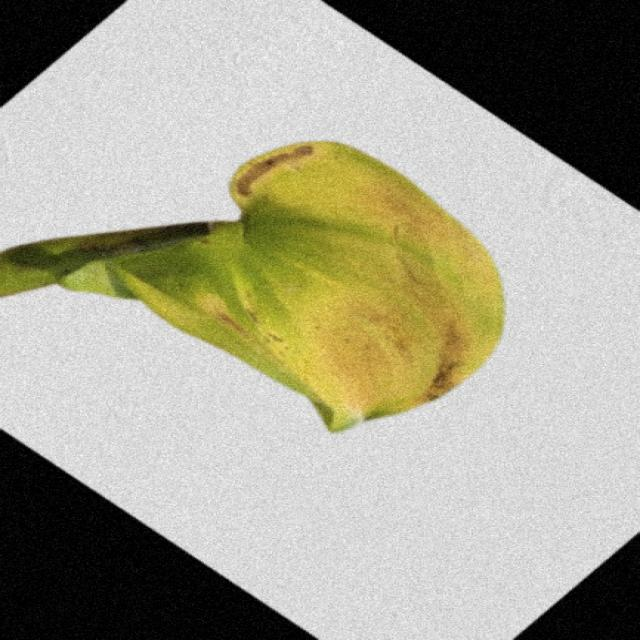daun berpenyakit kuning: (2, 141, 503, 432)
